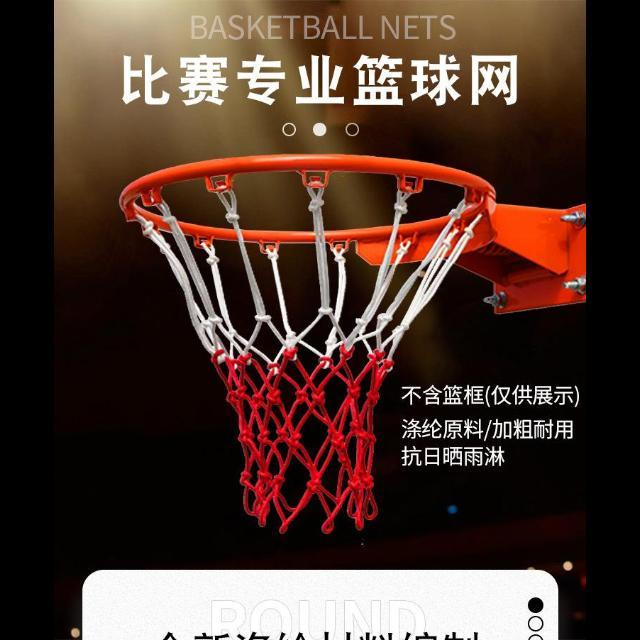rim: (120, 152, 492, 536)
